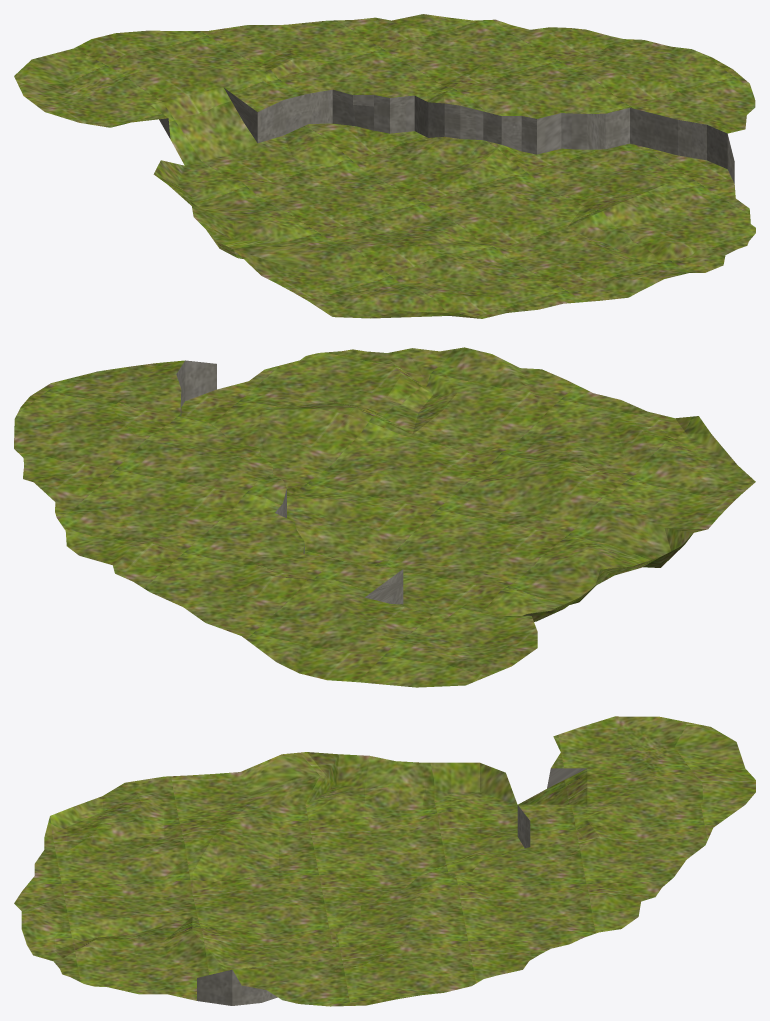
The model's file is BaseGroundOne 1.fbx.
The picture shows the model from 3 angles, top to bottom: view 1: azimuth 30°, elevation 25°; view 2: azimuth 150°, elevation 25°; view 3: azimuth 270°, elevation 25°; orthographic projection. The views are drawn at different scales.
Visible parts, largest first — view 1: Cube, Cube.001; view 2: Cube, Cube.001; view 3: Cube, Cube.001.
Boxes of the visible parts, left/top/right/bottom form: Cube: left=14, top=14, right=755, bottom=318; Cube.001: left=159, top=88, right=734, bottom=183; Cube: left=14, top=347, right=755, bottom=687; Cube.001: left=176, top=360, right=403, bottom=604; Cube: left=14, top=716, right=755, bottom=1006; Cube.001: left=197, top=768, right=586, bottom=1005.
Size of the model in its own units: 10728 by 861 by 11904.
